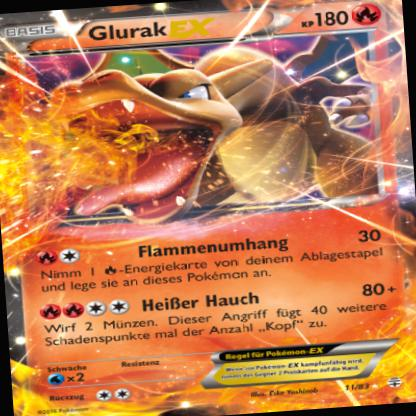Charizard: (36, 36, 395, 232)
